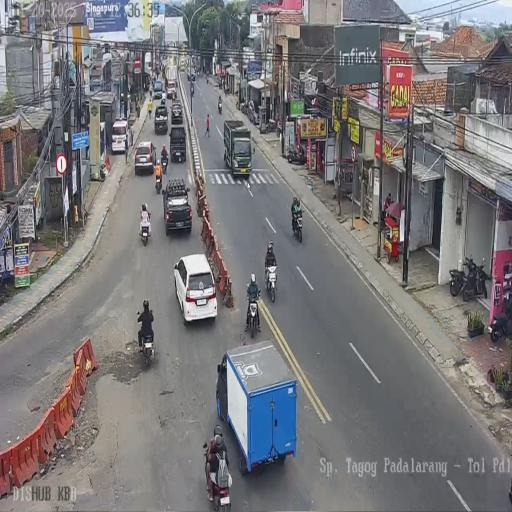3: (223, 117, 252, 176), (165, 65, 178, 98), (144, 51, 152, 78), (179, 56, 187, 72)
car: (174, 254, 218, 324), (163, 178, 193, 235), (111, 118, 131, 155), (134, 141, 155, 175), (169, 126, 187, 162), (154, 104, 168, 134), (171, 102, 183, 124), (153, 79, 164, 100), (161, 91, 167, 103)
truck: (203, 444, 232, 512), (461, 254, 489, 302), (489, 290, 512, 342), (244, 290, 262, 339), (137, 315, 154, 365), (265, 263, 278, 303), (449, 267, 466, 297), (286, 144, 306, 165), (291, 208, 303, 242), (140, 214, 151, 244), (155, 168, 162, 194), (161, 151, 168, 173), (240, 100, 248, 116), (276, 120, 282, 138), (218, 98, 222, 113), (223, 85, 228, 97), (196, 66, 200, 75), (191, 85, 194, 97), (206, 75, 208, 84)
